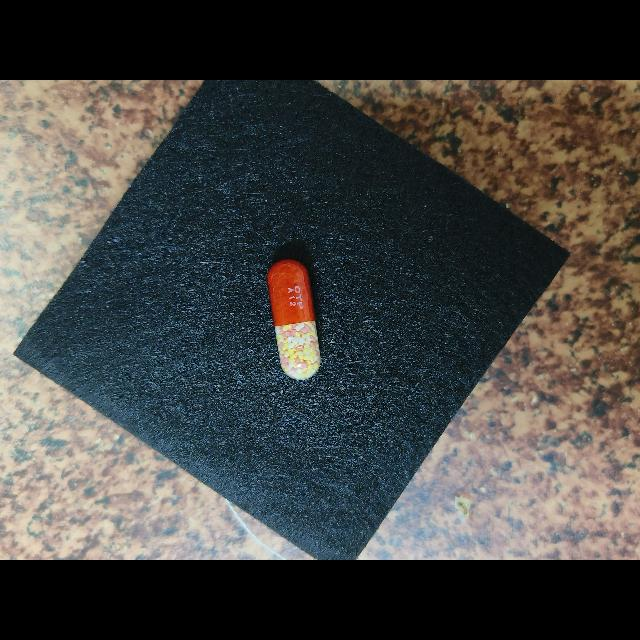Intact Capsule: (267, 259, 321, 380)
